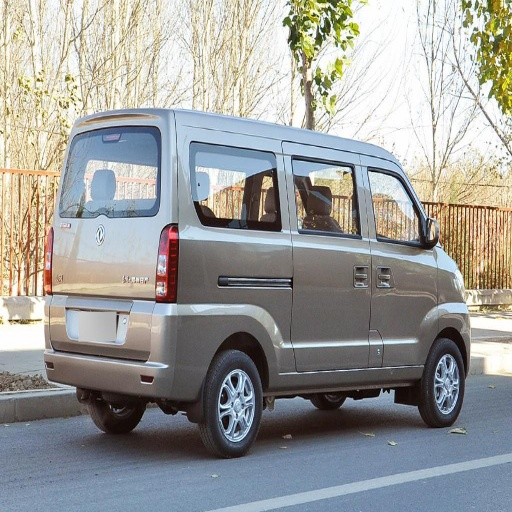back_bumper: (43, 321, 154, 394)
back_right_door: (301, 157, 371, 365), (86, 124, 157, 172)
tailgate: (52, 218, 80, 309)
trunk: (47, 221, 316, 399)
